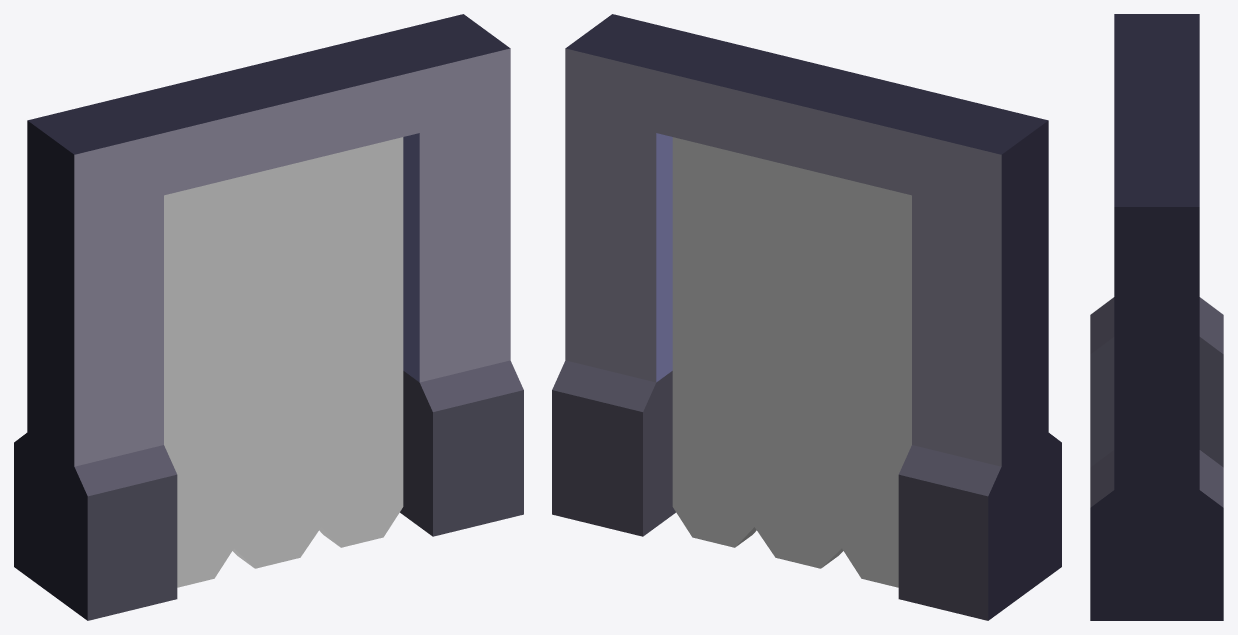
The model's file is DoorRollup.fbx.
3 views of the same model, side by side, from view 1: azimuth 30°, elevation 25°; view 2: azimuth 150°, elevation 25°; view 3: azimuth 270°, elevation 25° (orthographic). The views are drawn at different scales.
Parts seen in each view (by area): view 1: DoorInside, DoorInside(Door); view 2: DoorInside, DoorInside(Door); view 3: DoorInside.
Part boxes in pixels (x1,y1,x2,y2): DoorInside: (14, 14, 523, 620); DoorInside(Door): (164, 137, 403, 587); DoorInside: (552, 14, 1061, 620); DoorInside(Door): (672, 137, 911, 587); DoorInside: (1090, 14, 1223, 620).
Size of the model in its own units: 100 by 104 by 29.26.
